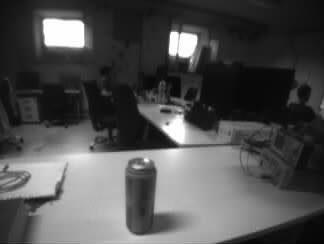Tin can: (124, 156, 156, 233)
